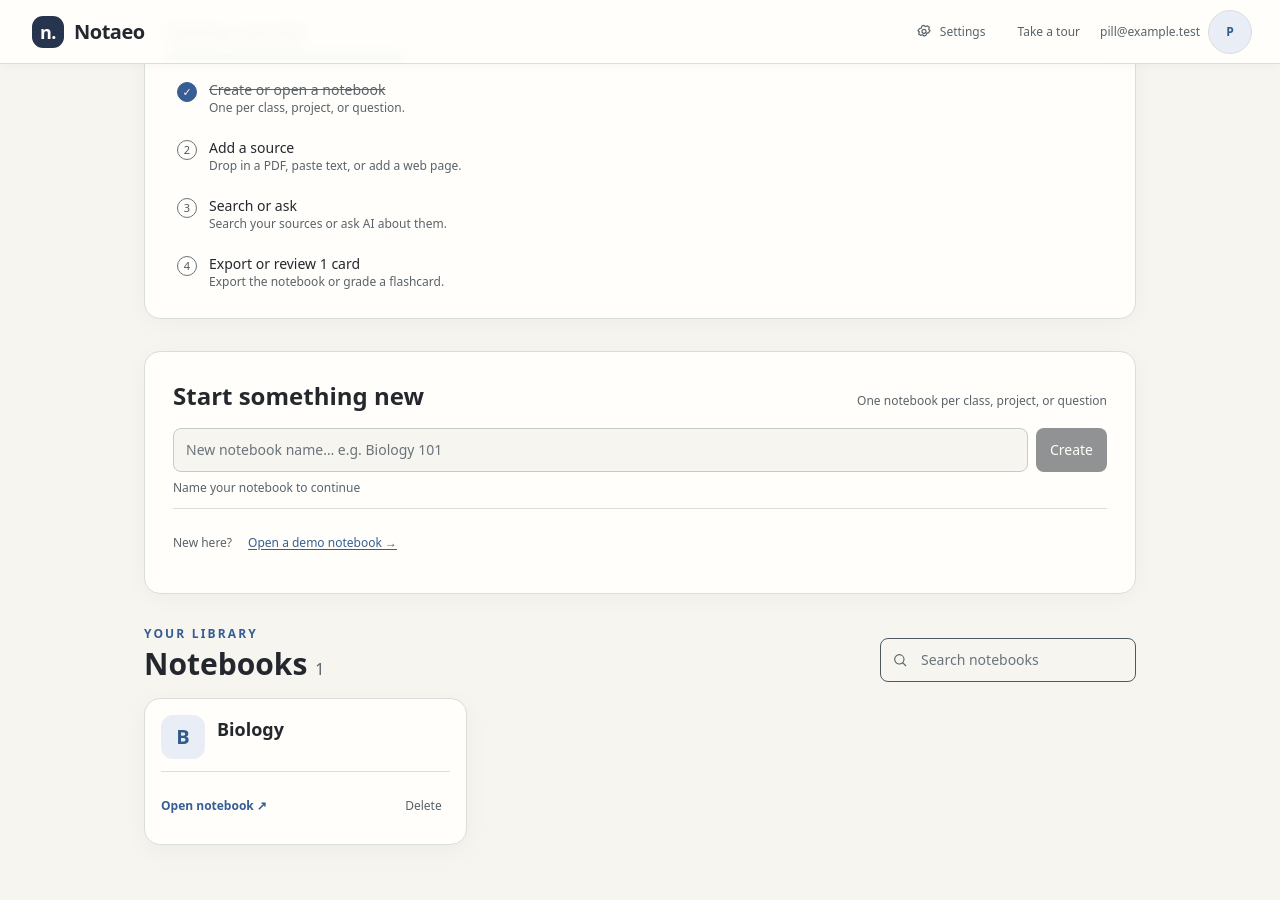
Scenario: keeps the Exported pill past 3s until the user acts
(page scrolled)
Click the button with aria-label "Open Biology".
click(183, 737)  # box [161,715,450,759]
(page scrolled)
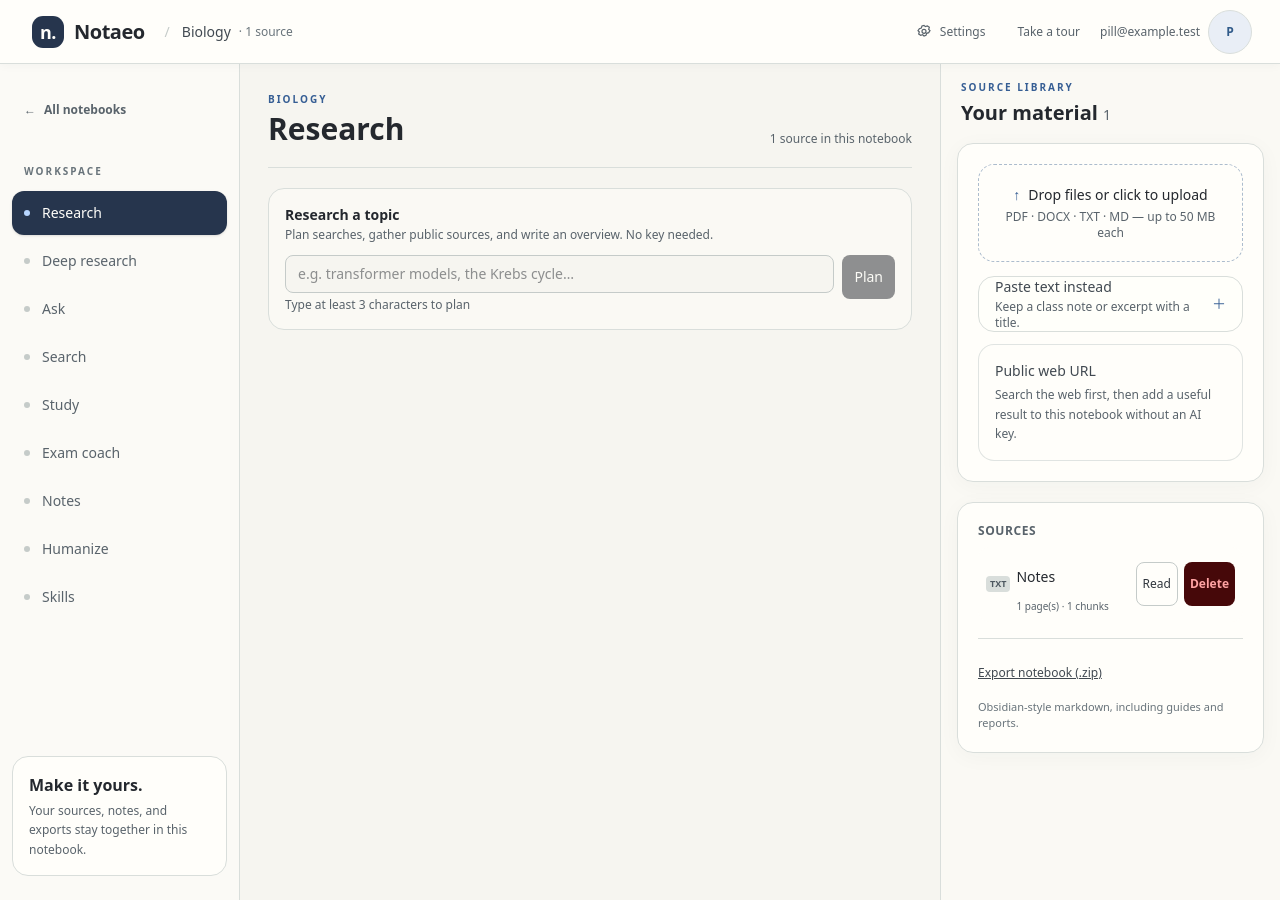
Click the button "Export notebook (.zip)".
click(1040, 672)  # box [978,650,1102,694]
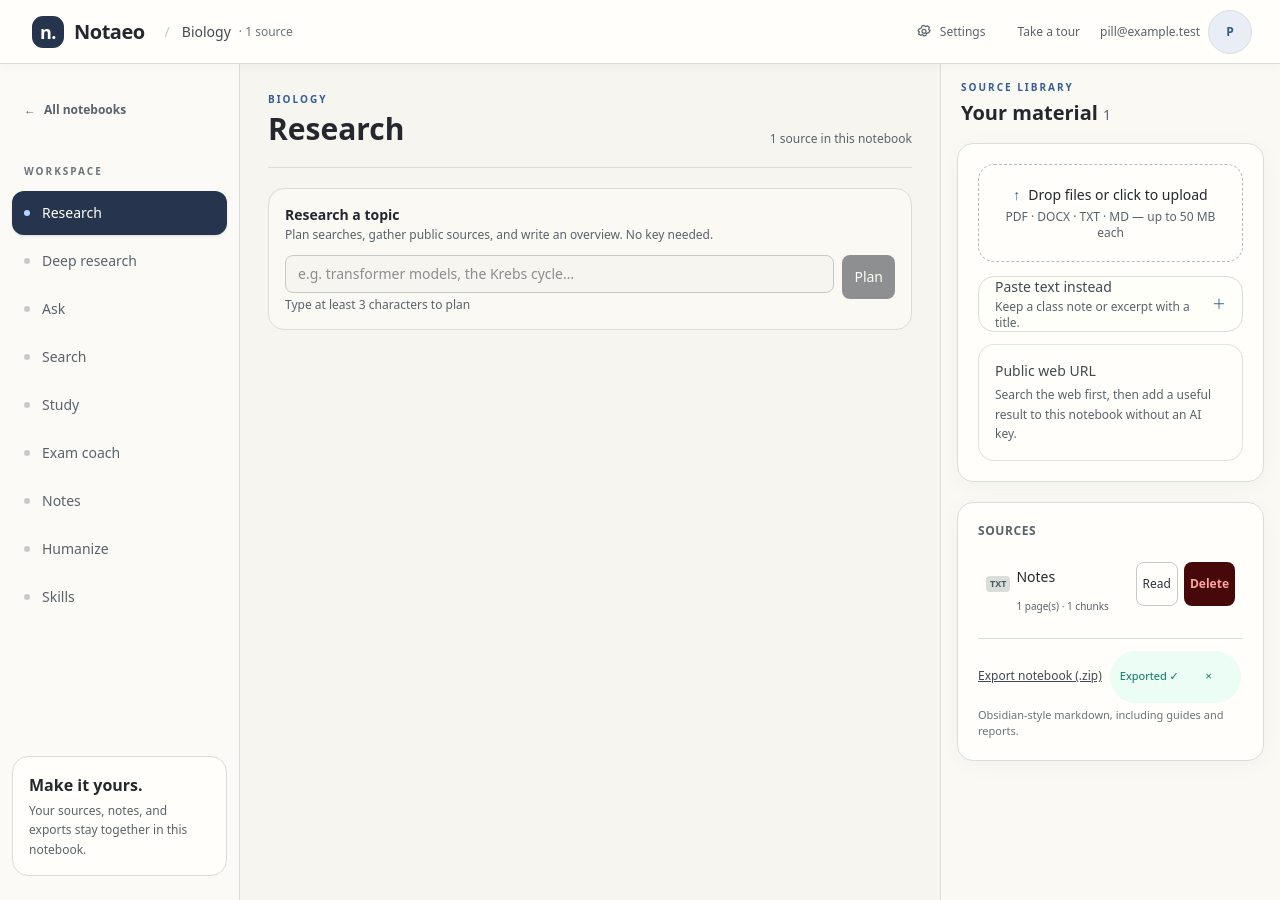
Check: the text "Exported ✓ ×" is shown, box [1110,650,1241,702]
